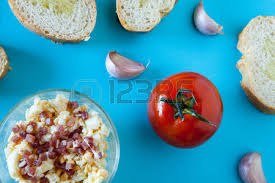tomato: (150, 71, 223, 148)
